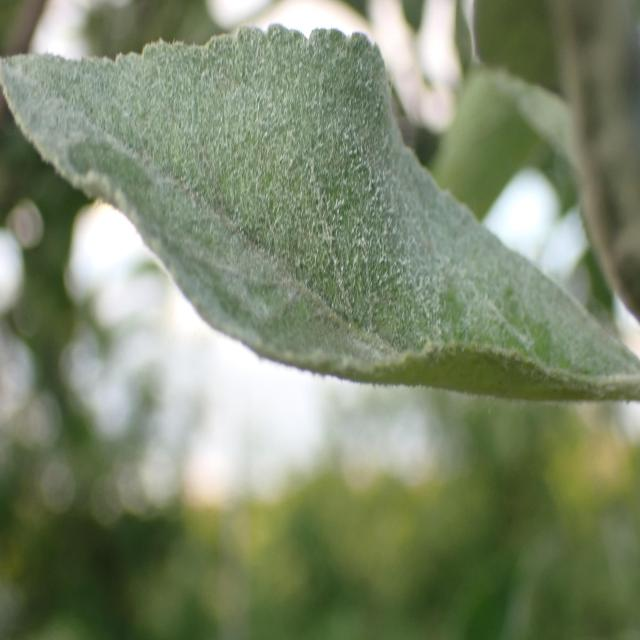Powdery_mildew: (0, 24, 640, 397)
